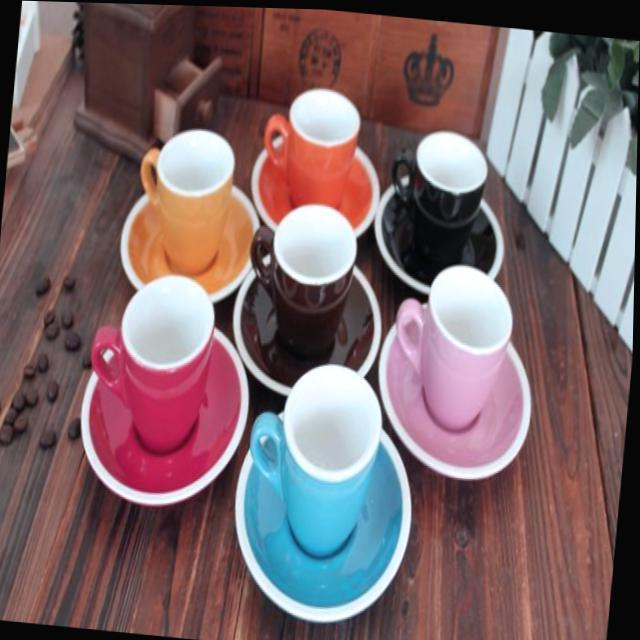cup: (224, 350, 424, 629)
